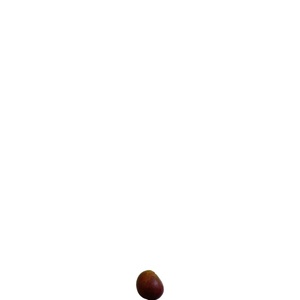manga: (137, 269, 164, 300)
